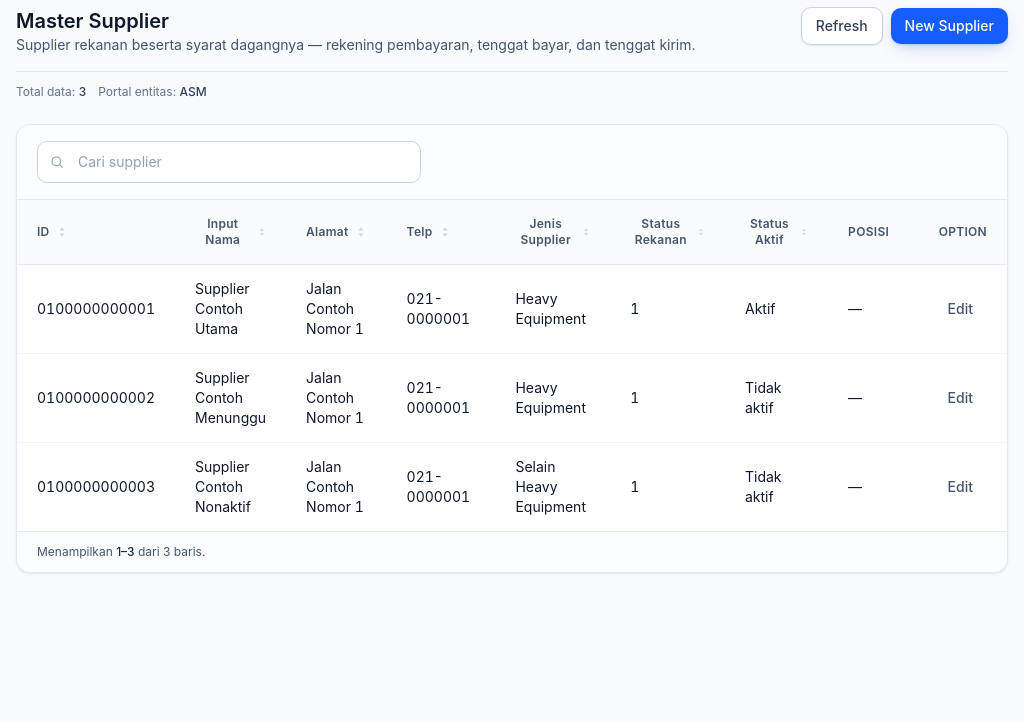
form master supplier › memberi tahu bahwa supplier baru selalu belum aktif
Check: the text "Supplier Contoh Utama" is shown, box [195,280,250,337]
Click the button "New Supplier": (949, 26) [891,8,1008,44]
(page scrolled)
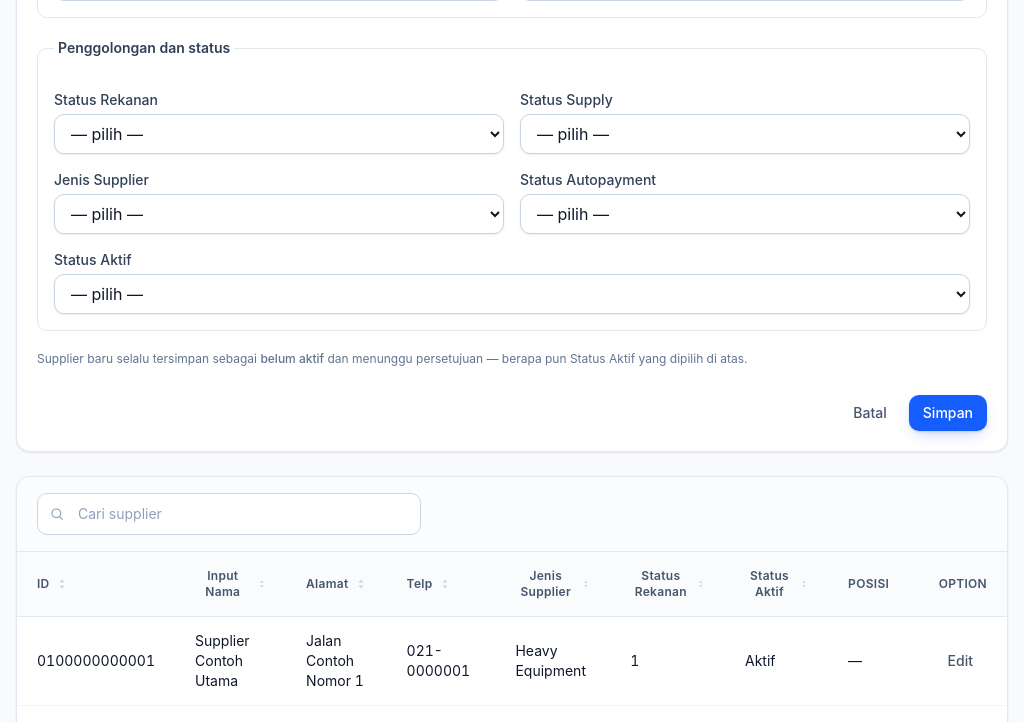
Check: the text "selalu tersimpan sebagai" is shown, box [37,351,257,366]
